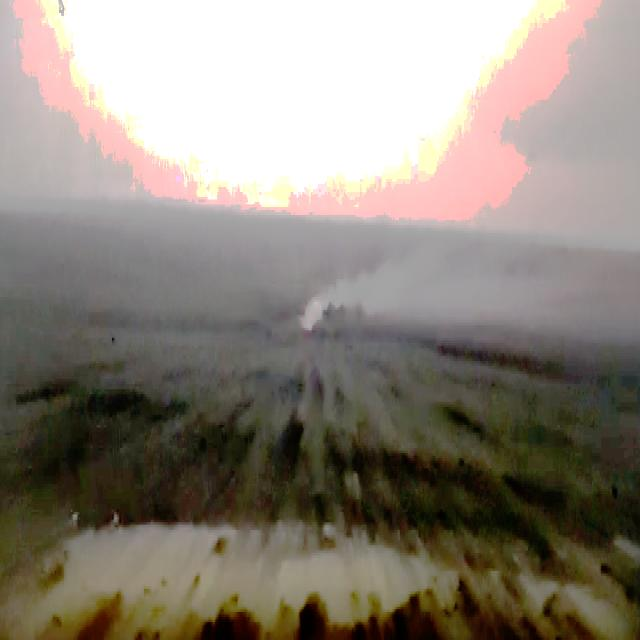asap: (291, 257, 433, 347)
